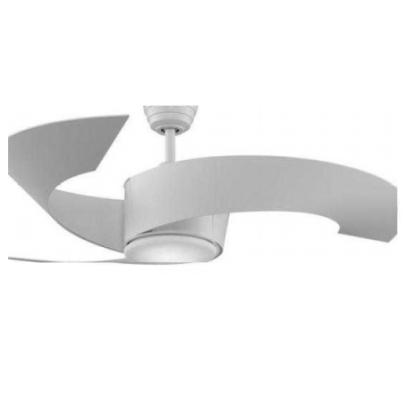ceiling-fan: (8, 106, 398, 263)
